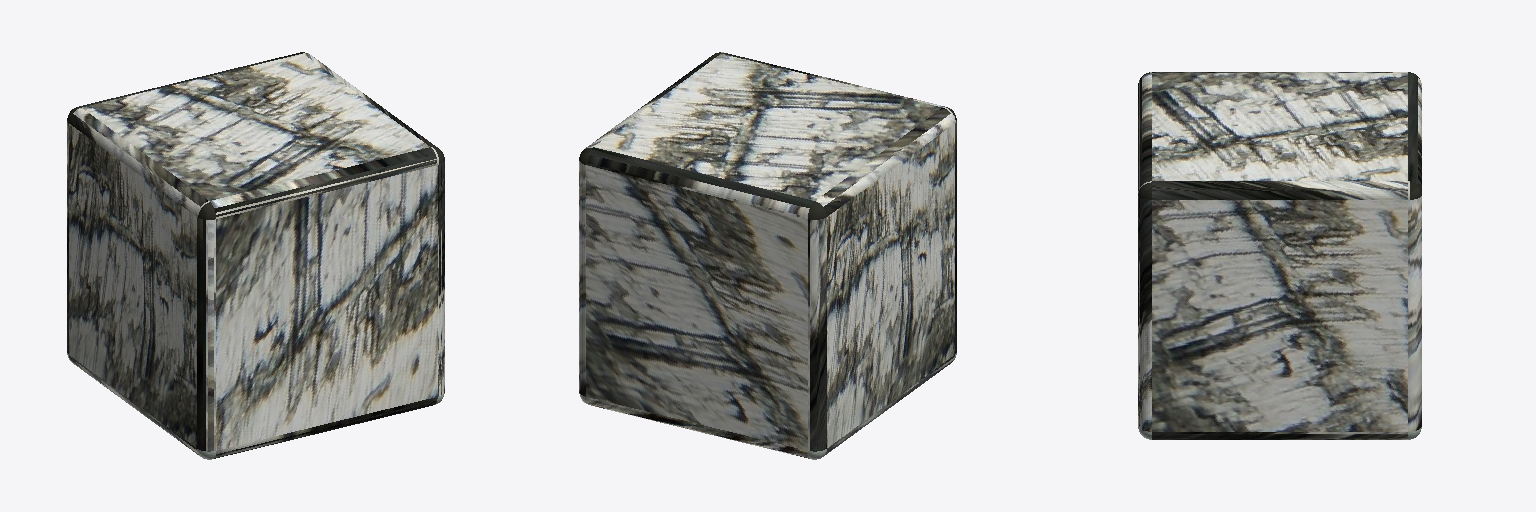
3 renders of one model, left to right at view 1: azimuth 30°, elevation 25°; view 2: azimuth 150°, elevation 25°; view 3: azimuth 270°, elevation 25°, orthographic.
Visible parts, largest first — view 1: Cube; view 2: Cube; view 3: Cube.
Part boxes in pixels (bbox=[...]): Cube: bbox=[67, 52, 444, 459]; Cube: bbox=[579, 52, 956, 459]; Cube: bbox=[1138, 72, 1421, 439].
Size of the model in its own units: 2 by 2 by 2.
Materials: 1 (1 with a texture image).